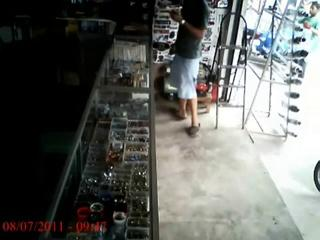shoplifting: (166, 0, 210, 136)
